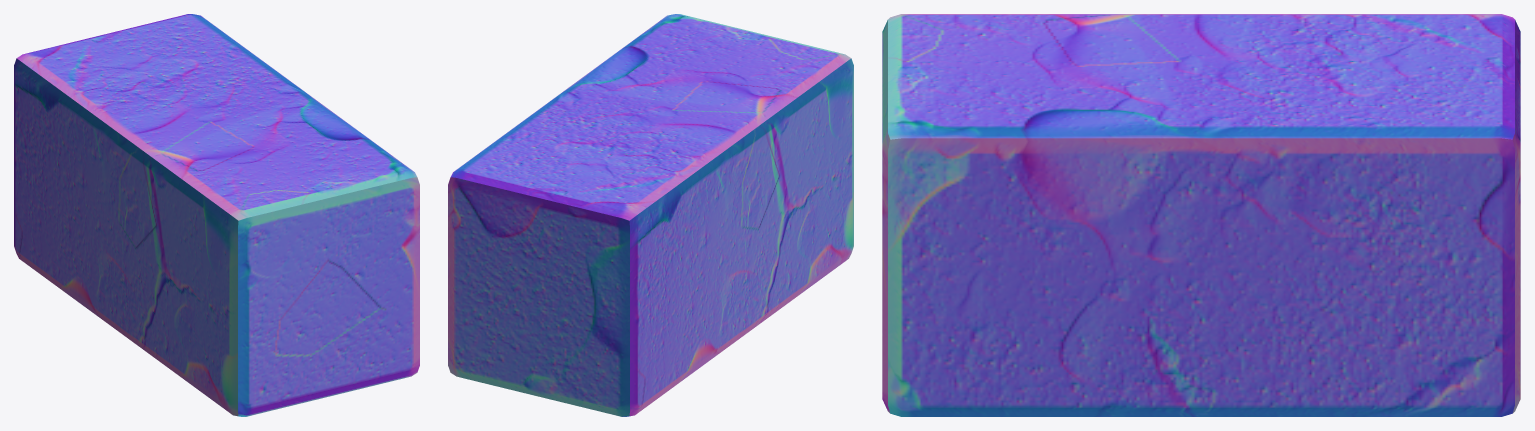
Rendered from Dungeon_LargeBricksHP.fbx.
The picture shows the model from 3 angles, left to right: view 1: azimuth 30°, elevation 25°; view 2: azimuth 150°, elevation 25°; view 3: azimuth 270°, elevation 25°; orthographic projection. The views are drawn at different scales.
Visible parts, largest first — view 1: Dungeon_HPLargeBrick1; view 2: Dungeon_HPLargeBrick1; view 3: Dungeon_HPLargeBrick1.
Boxes of the visible parts, <box> form: Dungeon_HPLargeBrick1: <box>14,14,419,416</box>; Dungeon_HPLargeBrick1: <box>448,14,853,416</box>; Dungeon_HPLargeBrick1: <box>882,14,1520,416</box>.
Size of the model in its own units: 0.6427 by 0.6696 by 1.34.
1 material, 1 textured.
